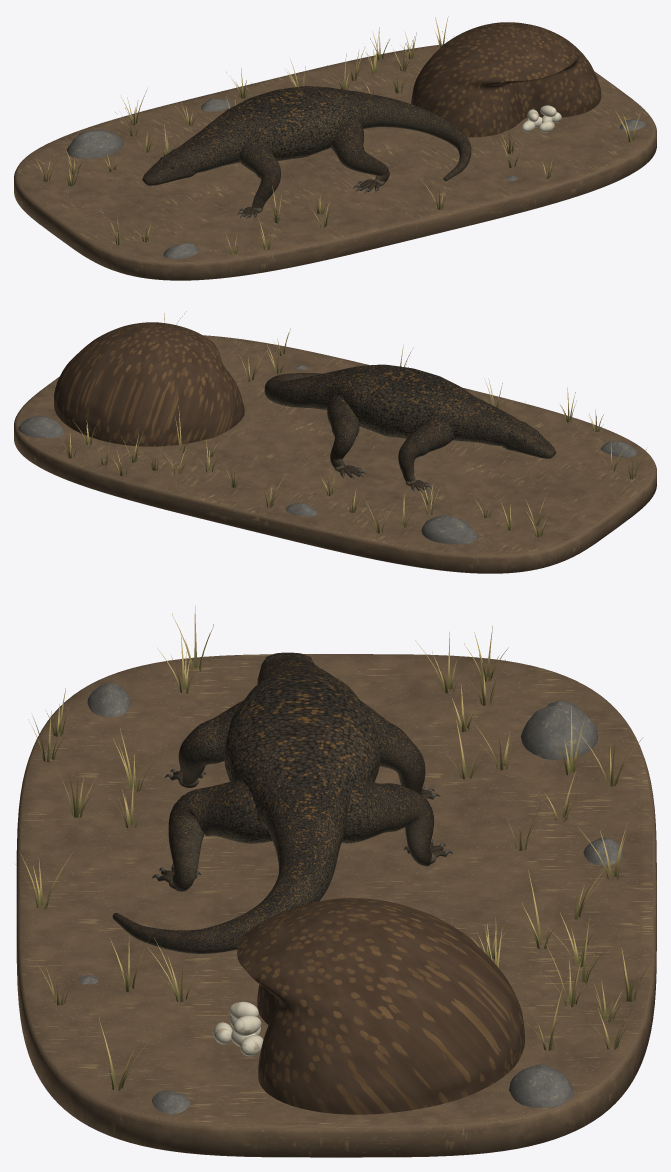
The model's file is komodo.glb.
3 renders of one model, top to bottom at view 1: azimuth 30°, elevation 25°; view 2: azimuth 150°, elevation 25°; view 3: azimuth 270°, elevation 25°, orthographic. The views are drawn at different scales.
Parts seen in each view (by area): view 1: Alas, Tubuh, Sarang, Kepala, Telur; view 2: Alas, Sarang, Tubuh, Kepala; view 3: Alas, Sarang, Tubuh, Telur.
Part boxes in pixels (<box>): Alas: <box>14,16,656,280</box>; Tubuh: <box>177,86,471,219</box>; Sarang: <box>411,22,601,137</box>; Kepala: <box>142,148,191,184</box>; Telur: <box>521,105,561,132</box>; Alas: <box>14,311,656,573</box>; Sarang: <box>54,322,244,446</box>; Tubuh: <box>264,364,520,492</box>; Kepala: <box>508,421,556,456</box>; Alas: <box>15,606,656,1157</box>; Sarang: <box>237,898,524,1114</box>; Tubuh: <box>112,655,452,953</box>; Telur: <box>213,1001,263,1056</box>.
Bounding box in the file's own units: 3.28 × 0.5267 × 1.87.
Materials: 11 (9 with a texture image).
